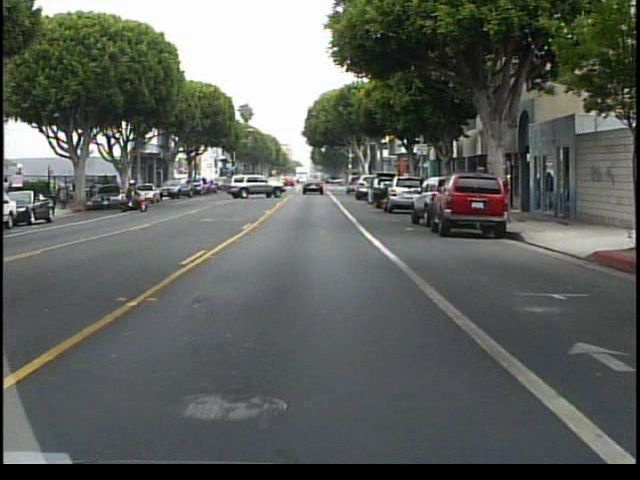person: (127, 179, 147, 211), (99, 171, 116, 206)
